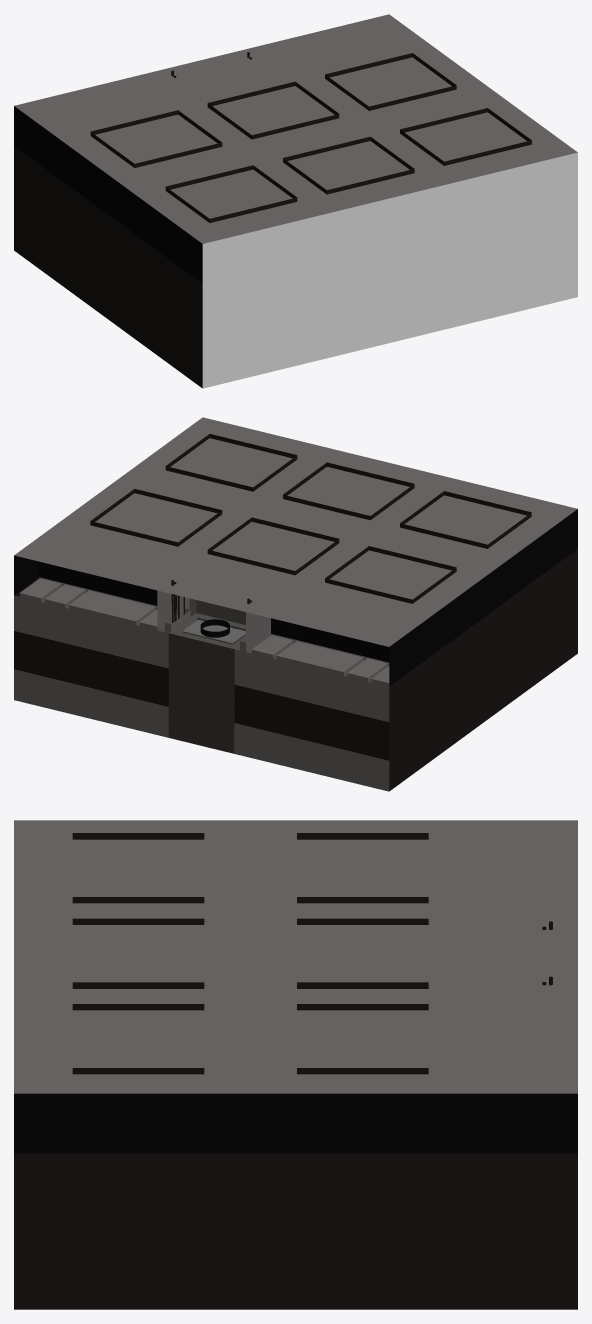
File: workshop.glb
3 renders of one model, top to bottom at view 1: azimuth 30°, elevation 25°; view 2: azimuth 150°, elevation 25°; view 3: azimuth 270°, elevation 25°, orthographic. The views are drawn at different scales.
Parts seen in each view (by area): view 1: level; view 2: level; view 3: level.
Boxes of the visible parts, box(x1,y1,x2,y2) form: level: box(14, 14, 577, 388); level: box(14, 417, 577, 791); level: box(14, 820, 577, 1309).
Bounding box in the file's own units: 18.74 × 7.13 × 16.34.
3 materials, 1 textured.
